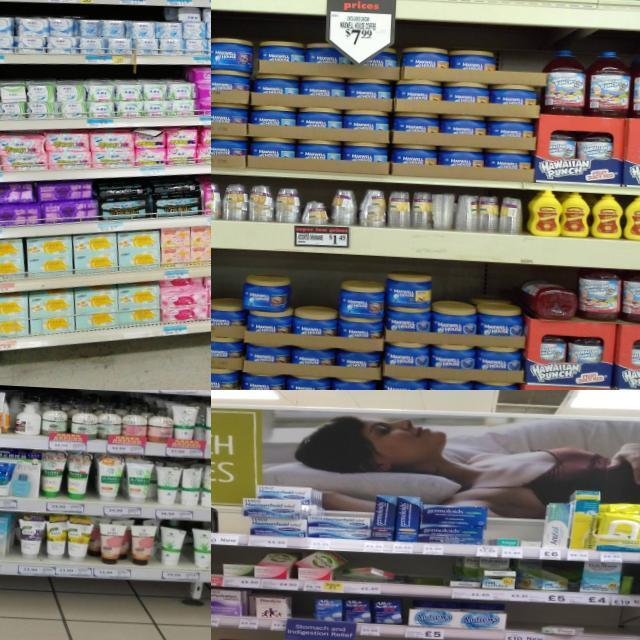empty: (504, 601, 539, 640), (585, 607, 626, 640), (214, 505, 242, 545), (211, 547, 224, 586)
